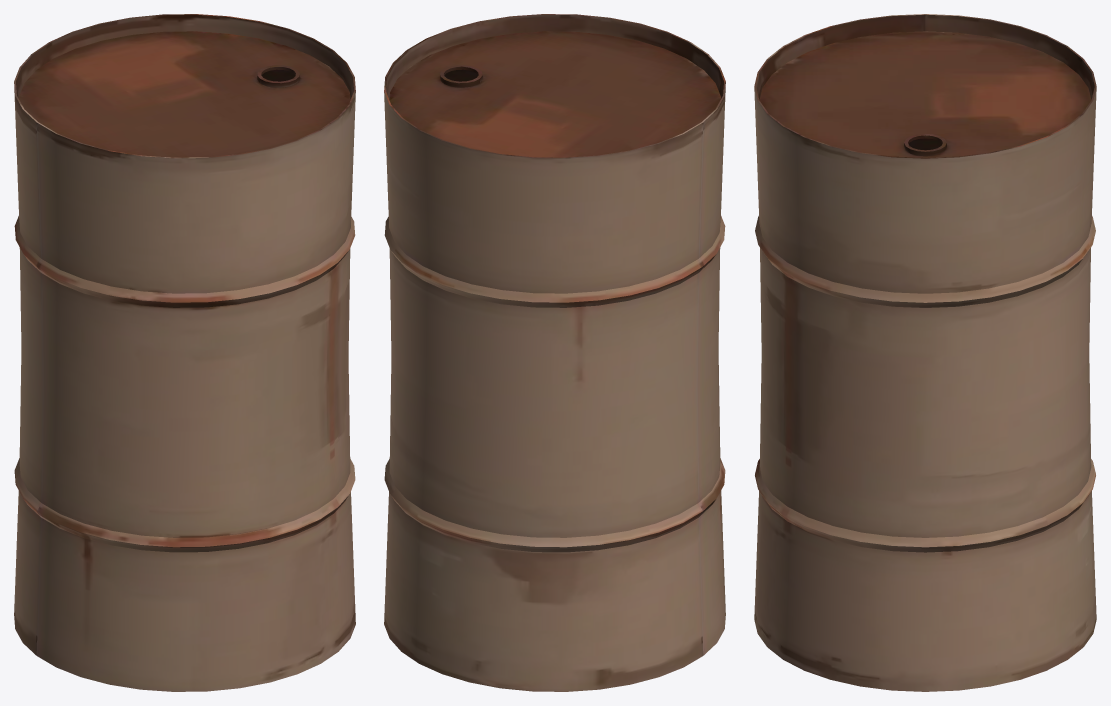
3 views of the same model, side by side, from view 1: azimuth 30°, elevation 25°; view 2: azimuth 150°, elevation 25°; view 3: azimuth 270°, elevation 25° (orthographic).
Visible parts, largest first — view 1: body0_model0_lod0_mesh0; view 2: body0_model0_lod0_mesh0; view 3: body0_model0_lod0_mesh0.
Boxes of the visible parts, x1,y1,x2,y2 form: body0_model0_lod0_mesh0: (14,14,355,691); body0_model0_lod0_mesh0: (384,14,725,691); body0_model0_lod0_mesh0: (754,14,1096,691).
Bounding box in the file's own units: 32 × 55 × 32.
Materials: 1 (1 with a texture image).
